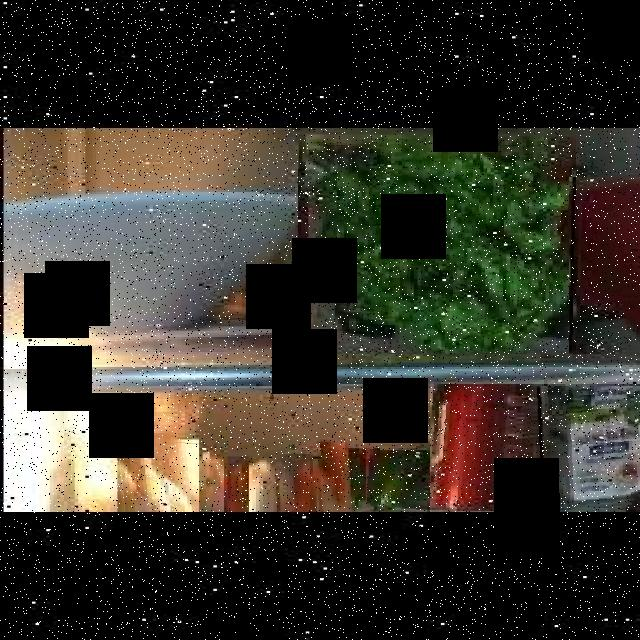bell_pepper: (569, 177, 640, 354), (366, 450, 444, 512)
carrot: (270, 454, 310, 512), (313, 442, 345, 512), (345, 448, 380, 512)
garlic: (117, 439, 199, 512), (224, 457, 288, 512)
heavy_cream: (533, 386, 640, 512)
salad: (298, 135, 572, 354)
tomato_sauce: (430, 384, 534, 512)
